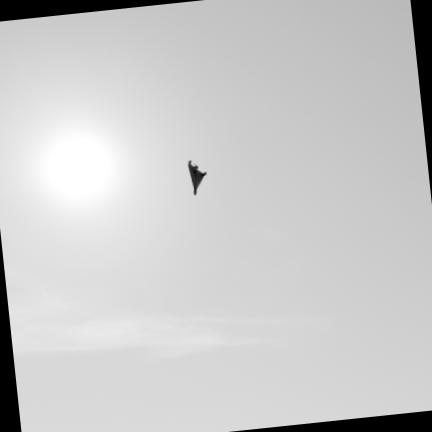Shahed: (189, 161, 207, 194)
